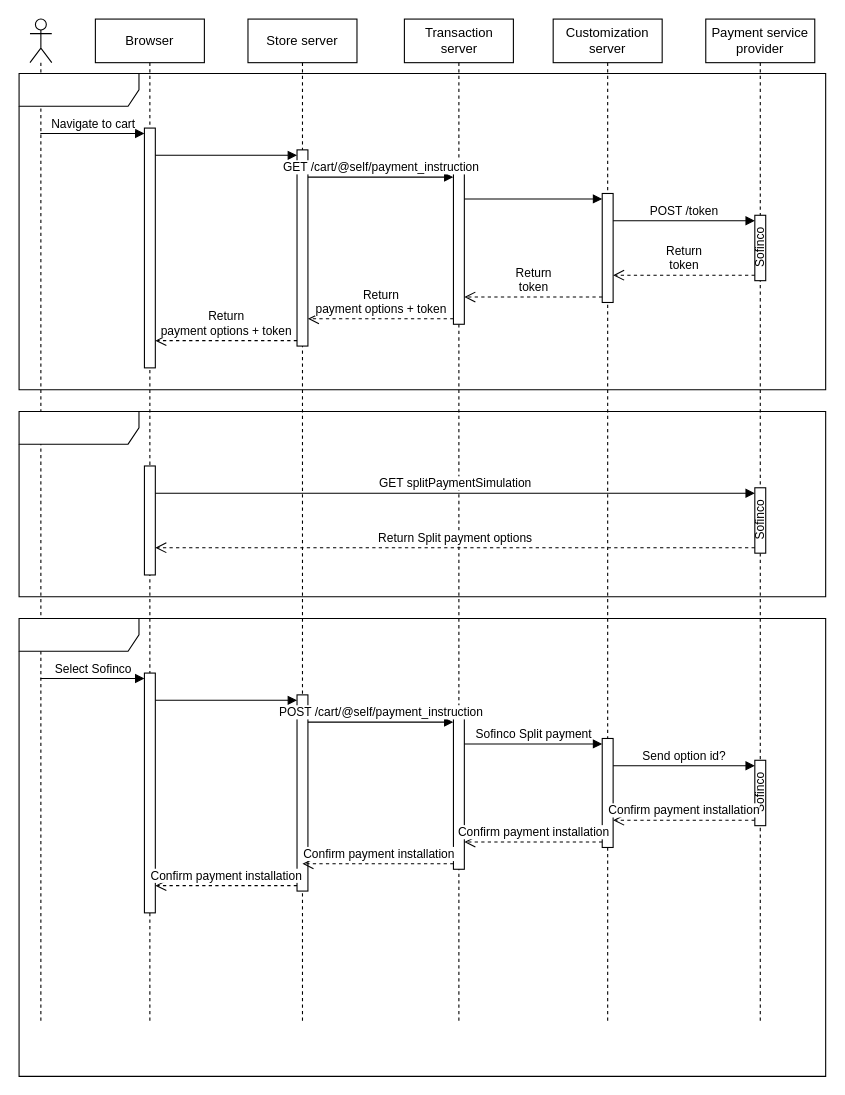
Image size: 845x1095. Some labels were removed from this diagram. The centre of each missing label's shape, as x and y in pixels:
Get split payment simulations: pixel 422 503
Request payment options: pixel 422 231
Set Sofinco payment option: pixel 422 846
